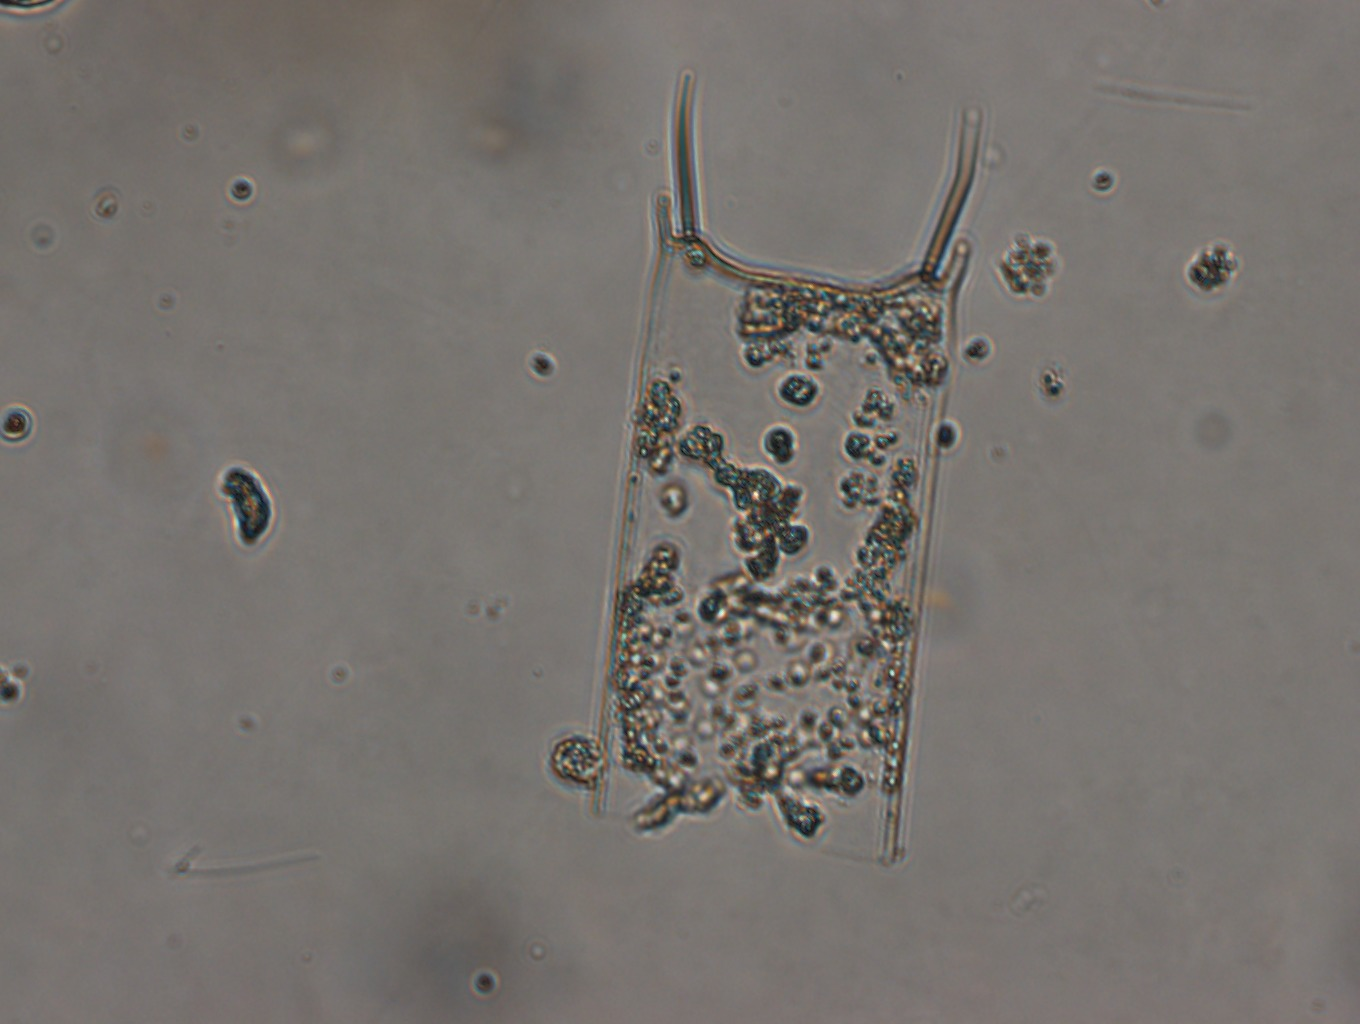biddulphia: (596, 66, 988, 862)
